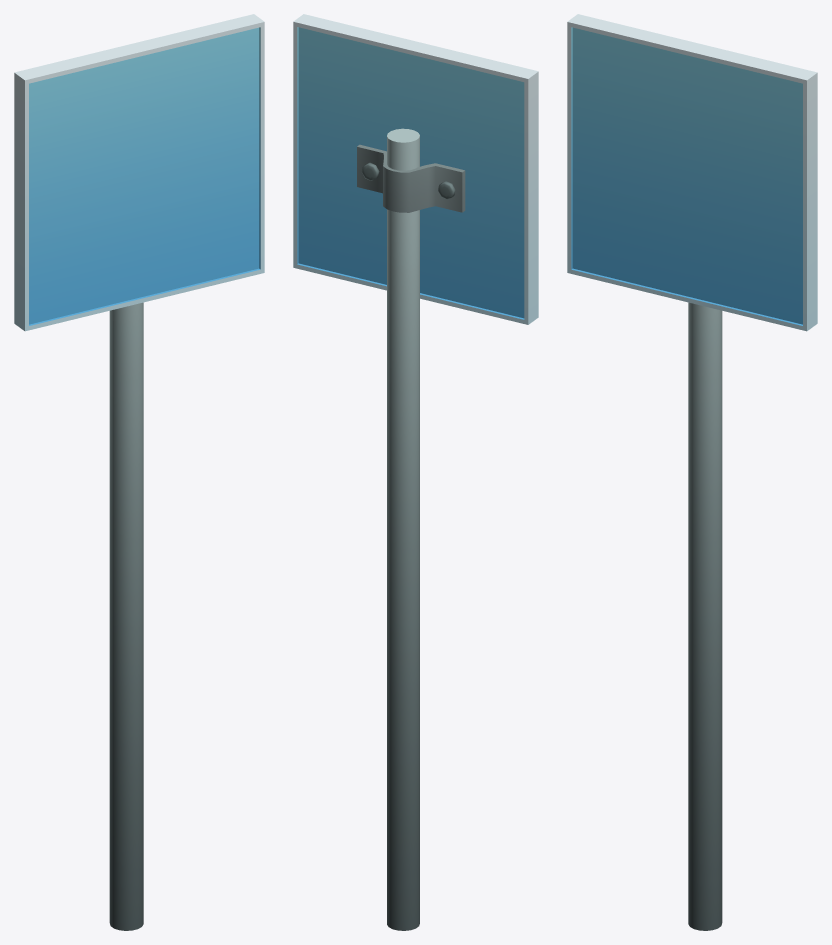
File: panneau impasse wip.fbx
3 renders of one model, left to right at view 1: azimuth 30°, elevation 25°; view 2: azimuth 150°, elevation 25°; view 3: azimuth 330°, elevation 25°, orthographic. The views are drawn at different scales.
Parts seen in each view (by area): view 1: Panneau_Head; view 2: Panneau_Head; view 3: Panneau_Head.
Boxes of the visible parts, x1,y1,x2,y2 form: Panneau_Head: (14,14,264,930); Panneau_Head: (293,14,538,930); Panneau_Head: (567,14,817,930).
Bounding box in the file's own units: 318 × 1124 × 65.53.
